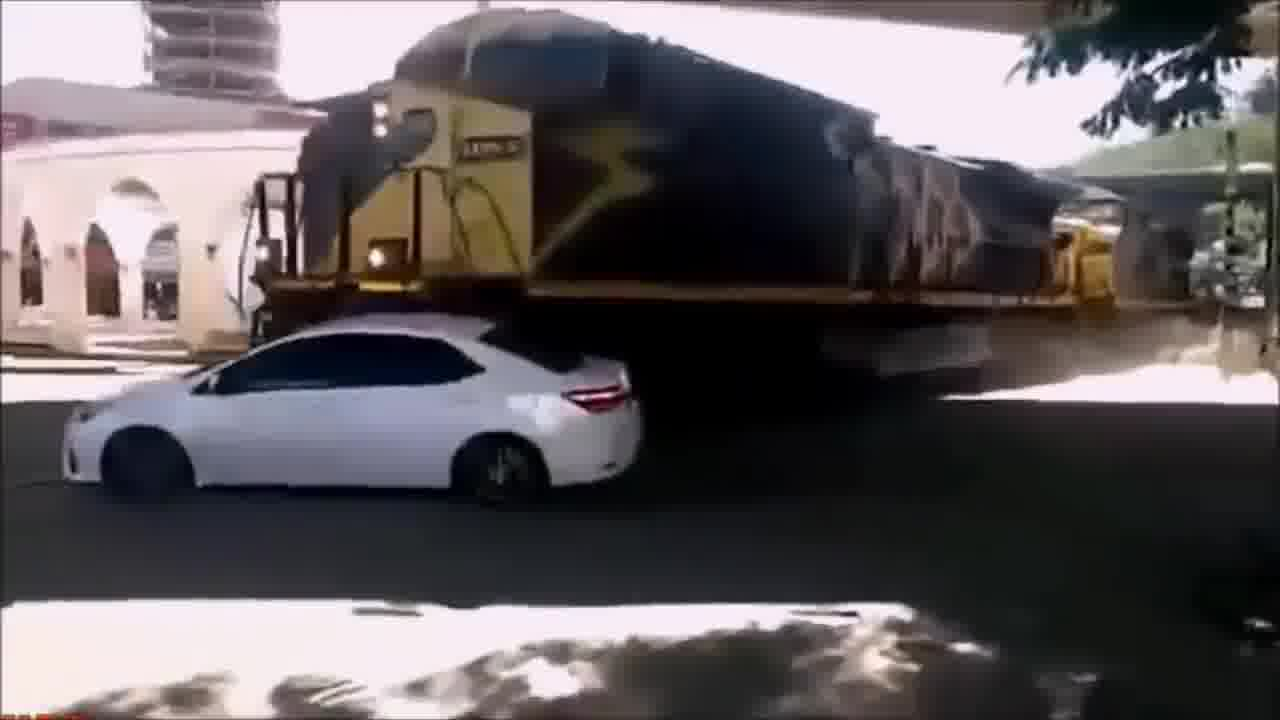crossing railway track: (49, 214, 668, 530)
